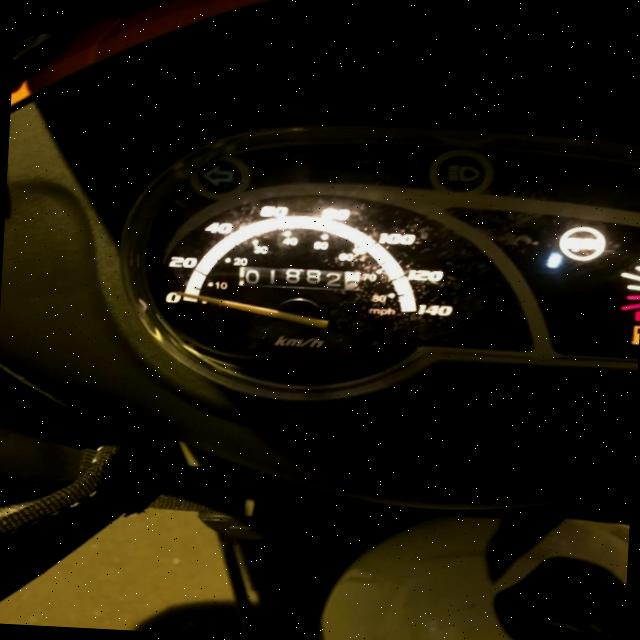odometer: (235, 264, 362, 293)
